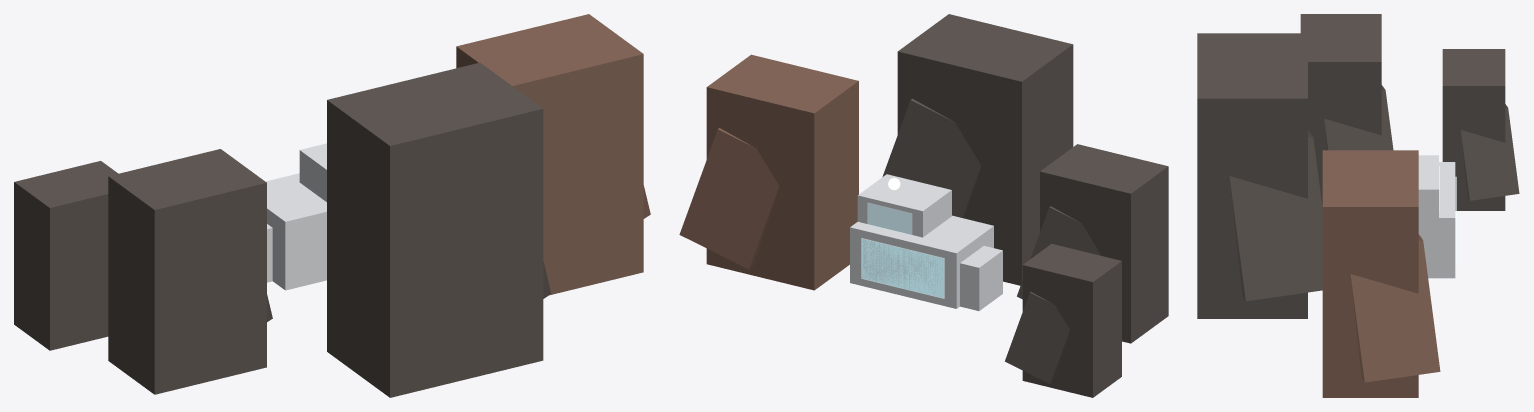
Rendered from studio-pavilion.glb.
The picture shows the model from 3 angles, left to right: view 1: azimuth 30°, elevation 25°; view 2: azimuth 150°, elevation 25°; view 3: azimuth 270°, elevation 25°; orthographic projection. The views are drawn at different scales.
Parts seen in each view (by area): view 1: RockBack_A, RockL_A, RockR_A, RockNear_A, RockBack_C, PavilionMain, RockL_C, RockR_C, RockNear_C, PavilionUpper; view 2: RockBack_A, RockR_A, RockL_A, RockNear_A, PavilionMain, RockR_B, RockBack_B, PavilionUpper, RockNear_B, GlassFront, PavilionWing, RockL_B (+1 smaller); view 3: RockBack_A, RockR_A, RockBack_B, RockL_A, RockR_B, RockNear_A, RockNear_B, PavilionMain, RockL_B, PavilionUpper.
Part boxes in pixels (x1,y1,x2,y2): RockBack_A: (327,62,543,397); RockL_A: (108,149,266,394); RockR_A: (456,14,643,295); RockNear_A: (14,161,118,350); RockBack_C: (395,143,472,264); PavilionMain: (265,173,326,290); RockL_C: (158,208,214,296); RockR_C: (528,84,582,182); RockNear_C: (53,207,96,274); PavilionUpper: (299,143,326,201); RockBack_A: (897,14,1073,285); RockR_A: (706,54,858,290); RockL_A: (1040,144,1168,343); RockNear_A: (1022,244,1121,397); PavilionMain: (850,215,993,308); RockR_B: (679,128,779,269); RockBack_B: (882,98,981,218); PavilionUpper: (857,174,951,237); RockNear_B: (1005,292,1069,383); GlassFront: (861,238,944,298); PavilionWing: (960,246,1002,310); RockL_B: (1017,206,1100,299); RockBack_A: (1197,33,1307,318); RockR_A: (1322,150,1418,397); RockBack_B: (1229,130,1322,301); RockL_A: (1300,14,1381,206); RockR_B: (1350,234,1440,382); RockNear_A: (1442,49,1505,210); RockNear_B: (1460,104,1519,200); PavilionMain: (1418,162,1455,278); RockL_B: (1324,85,1393,150); PavilionUpper: (1418,155,1438,226).
Size of what is drawn, in the model's own units: 7.63 by 3.38 by 4.37.
